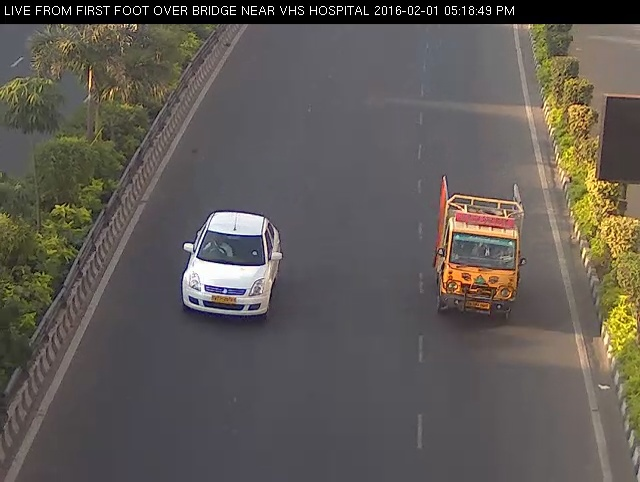Car: (416, 168, 540, 329), (163, 198, 304, 332)
